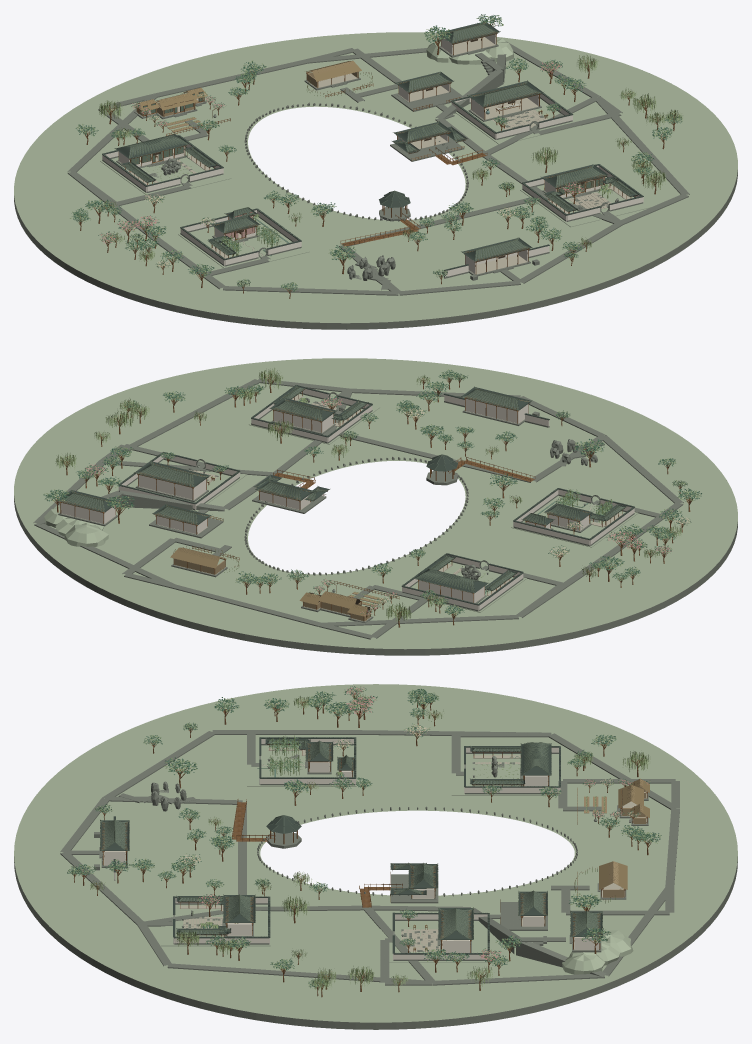
The model's file is overview.glb.
The picture shows the model from 3 angles, top to bottom: view 1: azimuth 30°, elevation 25°; view 2: azimuth 150°, elevation 25°; view 3: azimuth 270°, elevation 25°; orthographic projection. The views are drawn at different scales.
Visible parts, largest first — view 1: landscape_earth, landscape_stone, landscape_lightleaf, landscape_leaf, landscape_leafdark, landscape_wood, xiaoxiangguan_earth.001, yihongyuan_roof, hengwuyuan_roof, landscape_bamboo, hengwuyuan_earth, xiaoxiangguan_roof.001 (+25 smaller); view 2: landscape_earth, landscape_stone, landscape_lightleaf, landscape_leaf, landscape_wood, landscape_leafdark, qiushuangzhai_plaster, yihongyuan_plaster, hengwuyuan_plaster, xiaoxiangguan_plaster.001, hengwuyuan_roof, yihongyuan_roof (+27 smaller); view 3: landscape_earth, landscape_stone, landscape_lightleaf, landscape_leaf, landscape_leafdark, landscape_wood, xiaoxiangguan_earth.001, hengwuyuan_earth, yihongyuan_earth, hengwuyuan_roof, yihongyuan_roof, qiushuangzhai_earth (+26 smaller).
Boxes of the visible parts, x1,y1,x2,y2 form: landscape_earth: (14, 32, 737, 323); landscape_stone: (14, 41, 737, 329); landscape_lightleaf: (70, 56, 682, 291); landscape_leaf: (71, 58, 681, 290); landscape_leafdark: (73, 58, 681, 291); landscape_wood: (78, 59, 677, 298); xiaoxiangguan_earth.001: (178, 216, 309, 267); yihongyuan_roof: (522, 164, 643, 215); hengwuyuan_roof: (102, 134, 223, 186); landscape_bamboo: (99, 55, 681, 261); hengwuyuan_earth: (100, 147, 231, 194); xiaoxiangguan_roof.001: (180, 208, 301, 260); landscape_earth: (14, 358, 737, 649); landscape_stone: (14, 378, 737, 655); landscape_lightleaf: (55, 368, 700, 621); landscape_leaf: (76, 370, 701, 615); landscape_wood: (60, 371, 692, 627); landscape_leafdark: (78, 370, 701, 614); qiushuangzhai_plaster: (118, 454, 239, 509); yihongyuan_plaster: (251, 389, 372, 442); hengwuyuan_plaster: (402, 554, 523, 610); xiaoxiangguan_plaster.001: (513, 489, 634, 545); hengwuyuan_roof: (401, 553, 523, 605); yihongyuan_roof: (251, 385, 372, 437); landscape_earth: (14, 684, 737, 1022); landscape_stone: (14, 730, 737, 1029); landscape_lightleaf: (68, 686, 660, 990); landscape_leaf: (68, 686, 661, 986); landscape_leafdark: (67, 687, 660, 987); landscape_wood: (73, 691, 654, 997); xiaoxiangguan_earth.001: (247, 743, 356, 786); hengwuyuan_earth: (451, 752, 561, 795); yihongyuan_earth: (161, 903, 270, 946); hengwuyuan_roof: (464, 742, 560, 787); yihongyuan_roof: (173, 895, 270, 938); qiushuangzhai_earth: (380, 919, 490, 962).
Size of the model in its own units: 270 by 20.25 by 244.
Materials: 25 (2 with a texture image).
